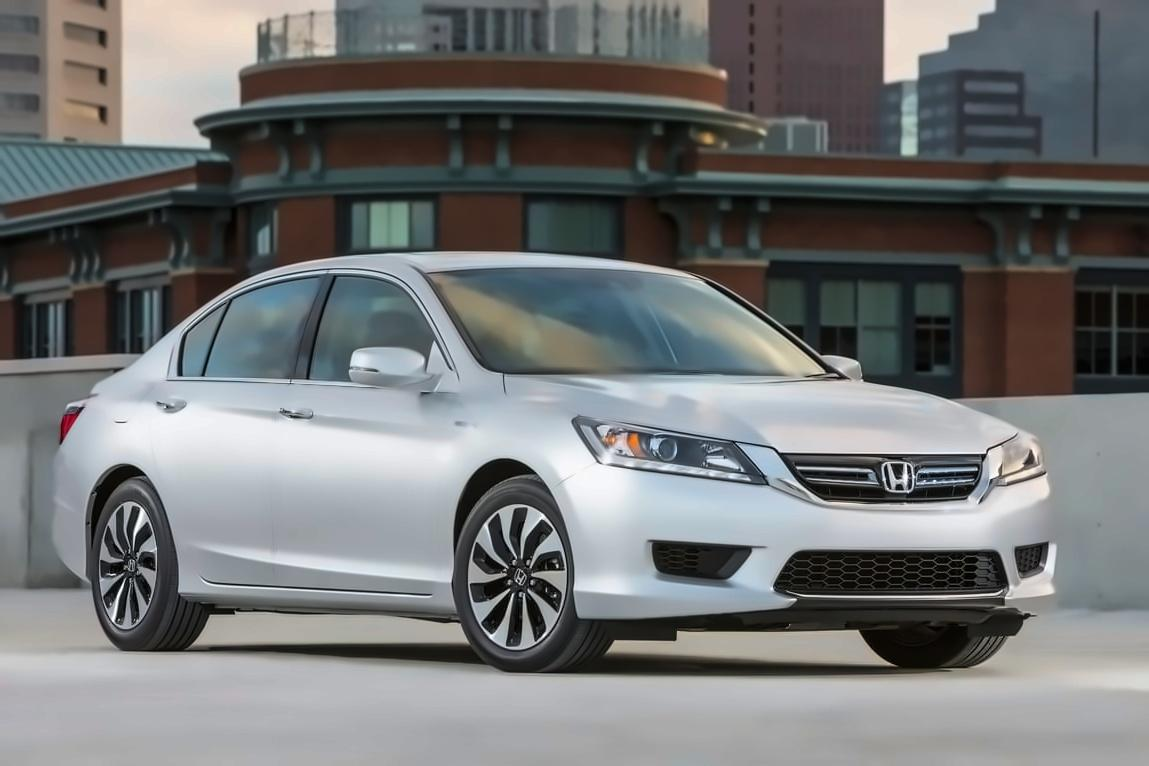Car hood: (504, 368, 1025, 466)
Driver-s door - -F-R-: (267, 244, 461, 634)
Fender - -F-R-: (438, 360, 598, 622)
Fender - -R-R-: (47, 304, 175, 514)
Front bumper: (551, 465, 1064, 638)
Headlight - -L-: (970, 430, 1046, 500)
Headlight - -R-: (568, 408, 762, 493)
Passenger-s door - -R-R-: (153, 243, 330, 630)
Rear bumper: (35, 485, 100, 596)
Rear light - -R-: (56, 395, 84, 457)
Side bumper - -R-: (173, 548, 473, 643)
Side mirror - -L-: (811, 351, 869, 390)
Side mirror - -R-: (350, 340, 449, 402)
